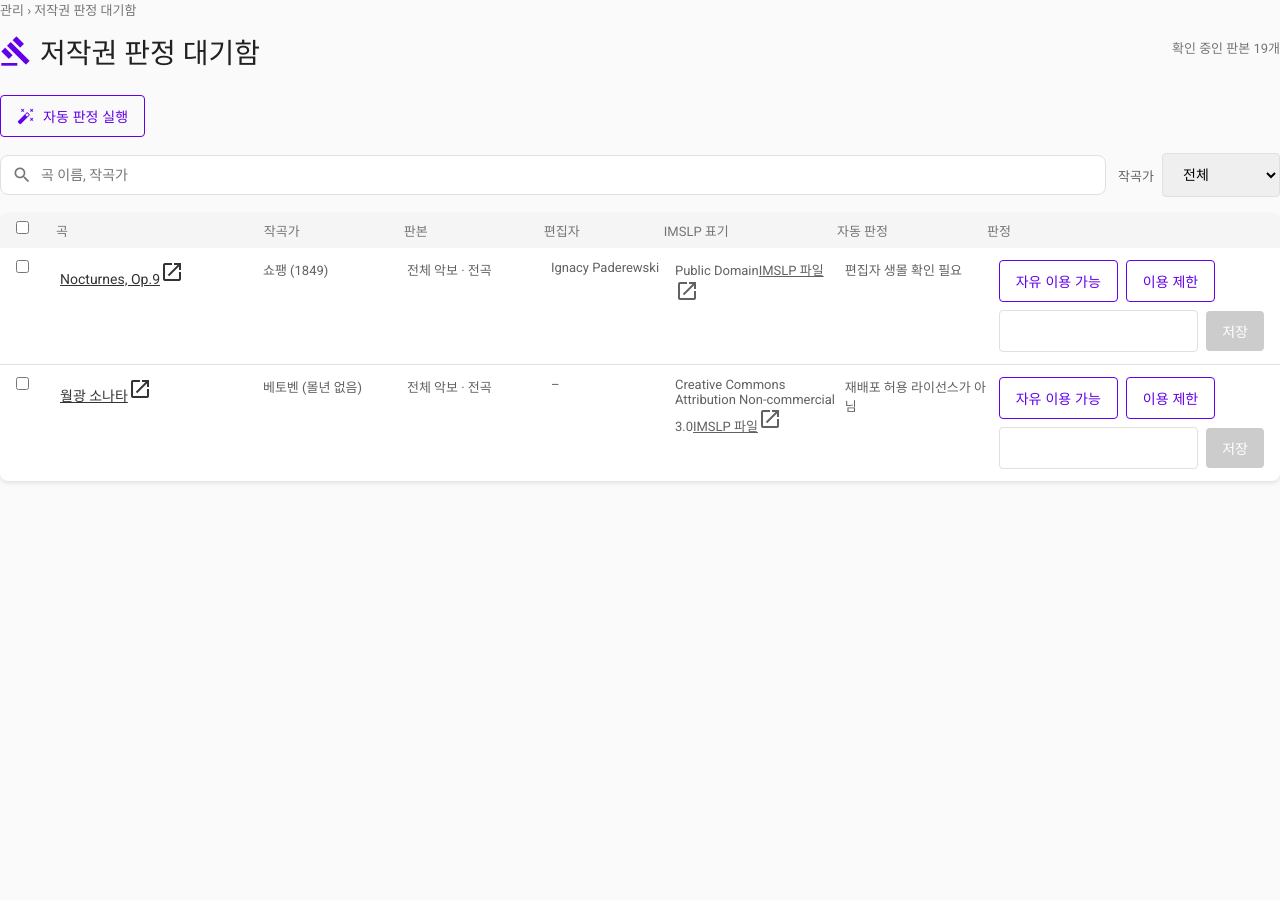
CopyrightPendingPage — 자동 판정 실행 (02 §5-11) › 실행하면 dryRun: false 로 한 번 더 부르고, 결과 숫자를 화면에 남긴다
Click the button "자동 판정 실행": [73, 116] box [0,95,145,137]
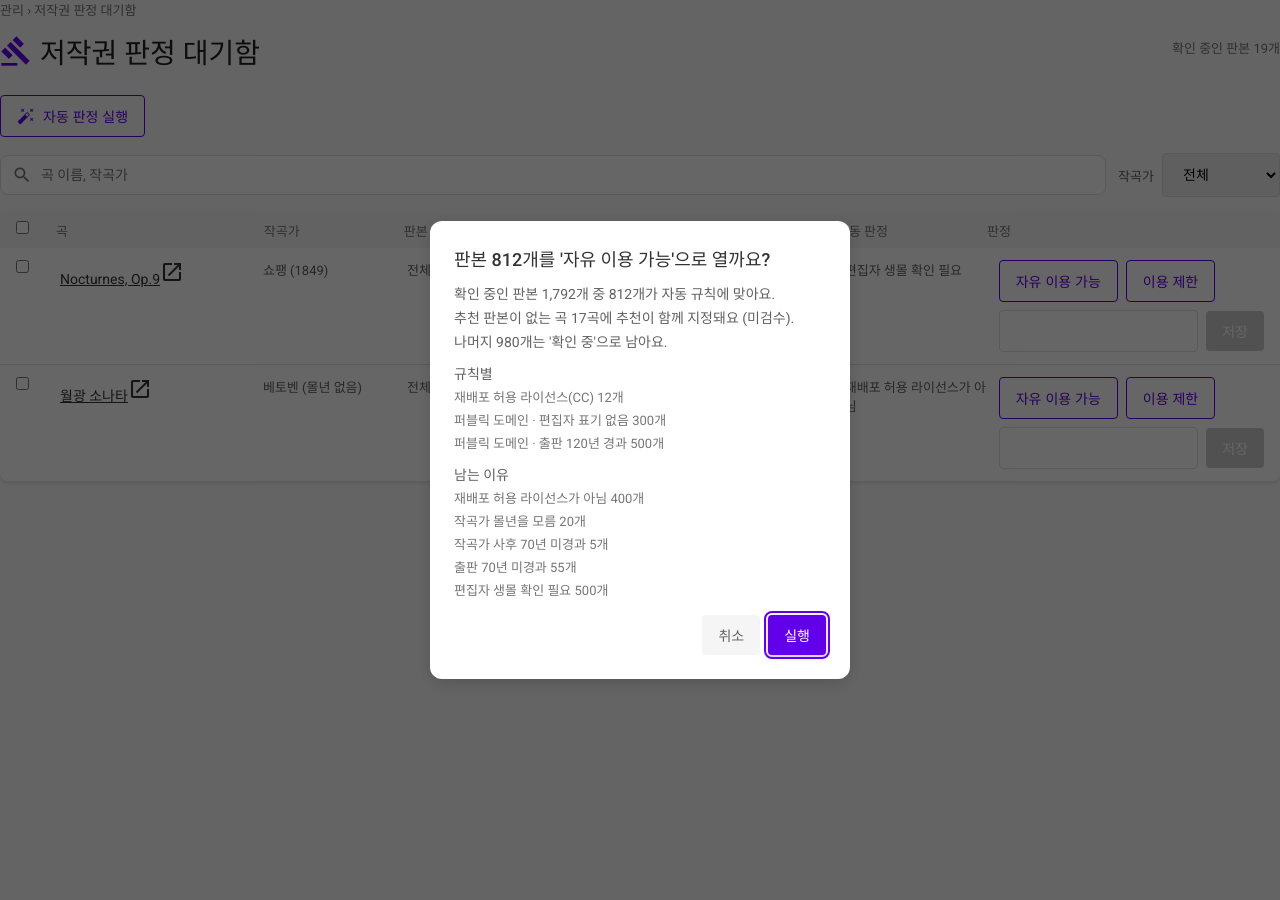
Expected: the dialog is shown, [430,221,850,679]
Click the button "실행": [797, 635] box [768,615,826,655]
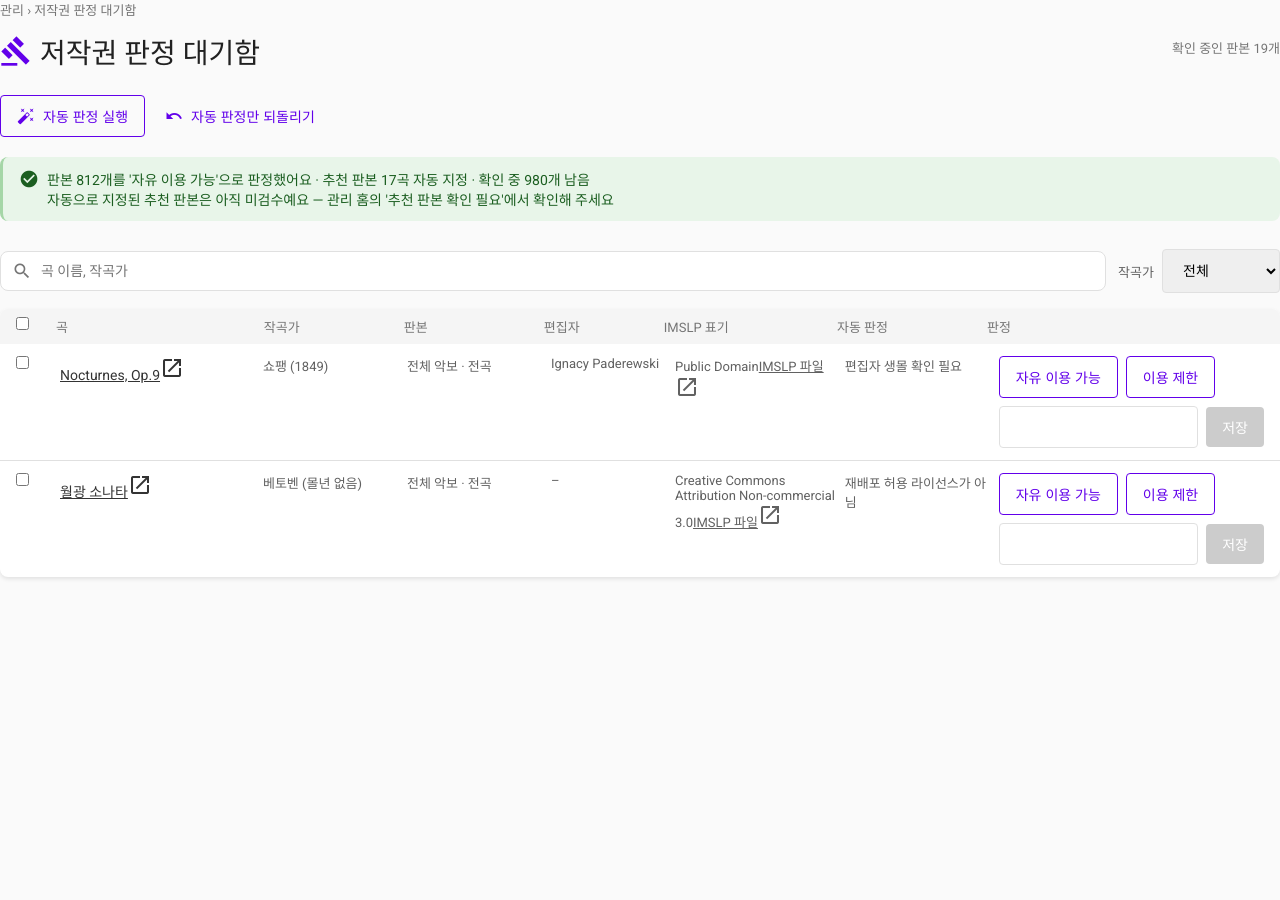
Expected: the text "812" is shown, [47,169,614,189]
Expected: the text "17" is shown, [47,169,614,189]
Expected: the text "판정했어요" is shown, [47,172,590,188]
